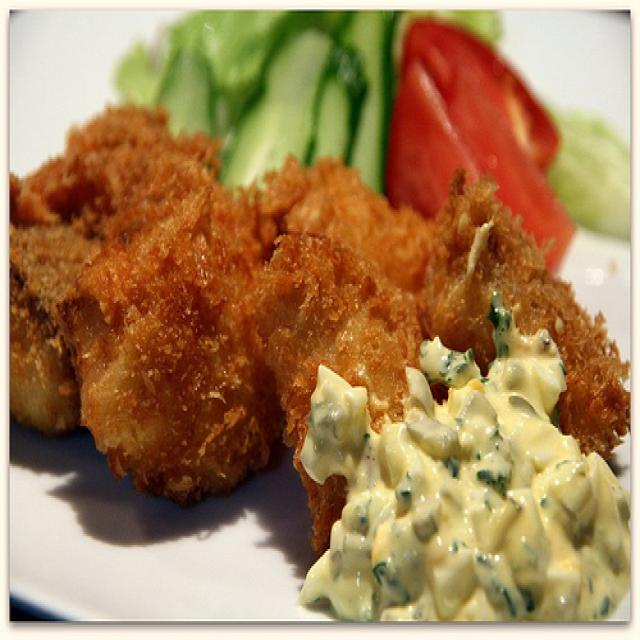炸货点心: (0, 164, 637, 526)
熟制海鲜: (0, 164, 637, 526)
